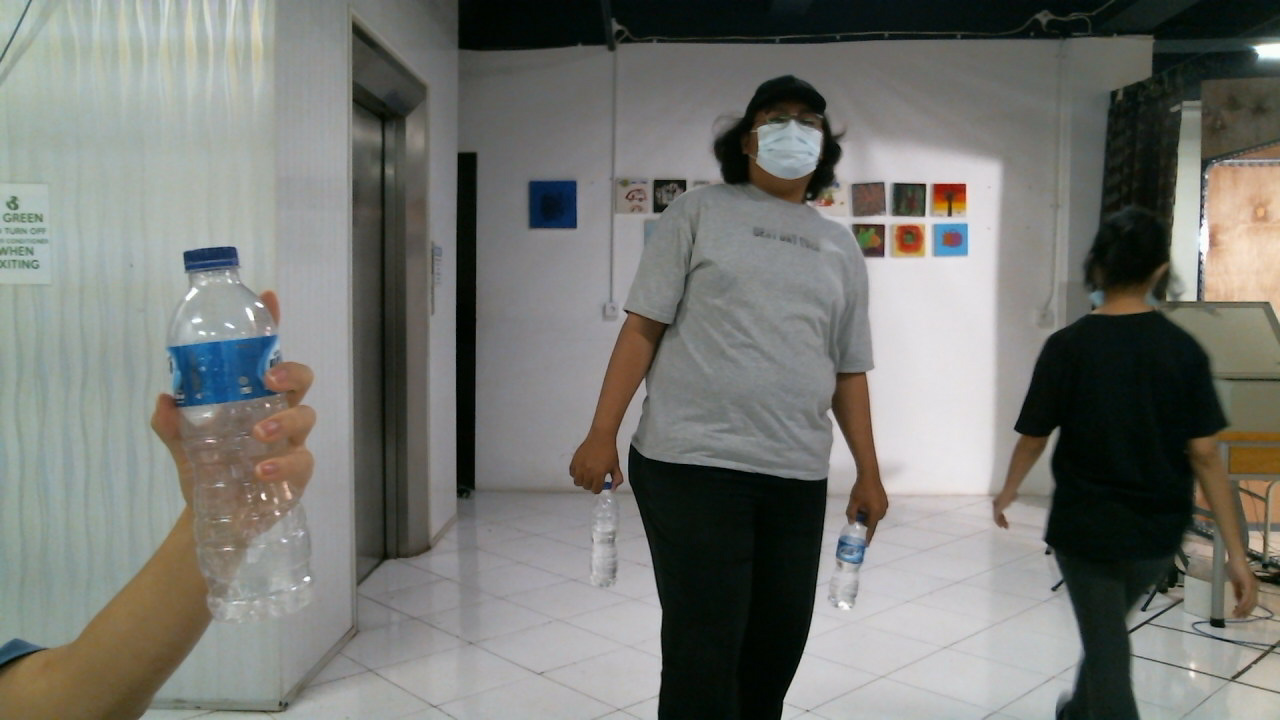Bottle: (165, 241, 319, 627), (830, 512, 869, 610)
